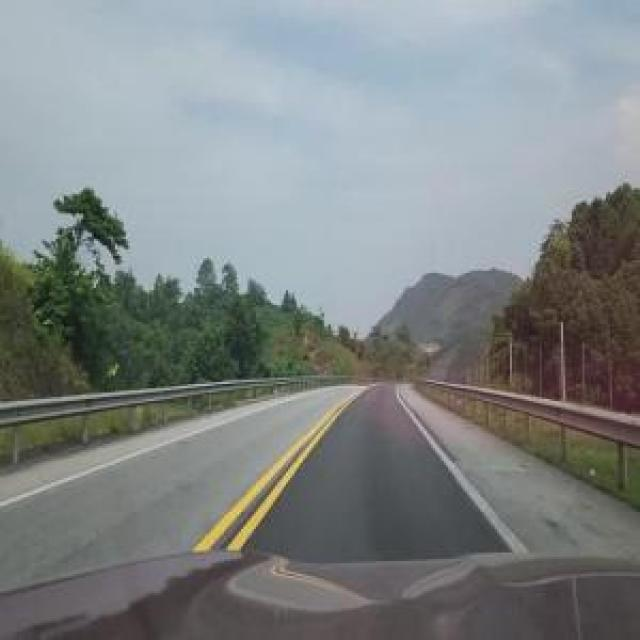clear-road: (0, 388, 363, 592), (246, 384, 640, 564)
